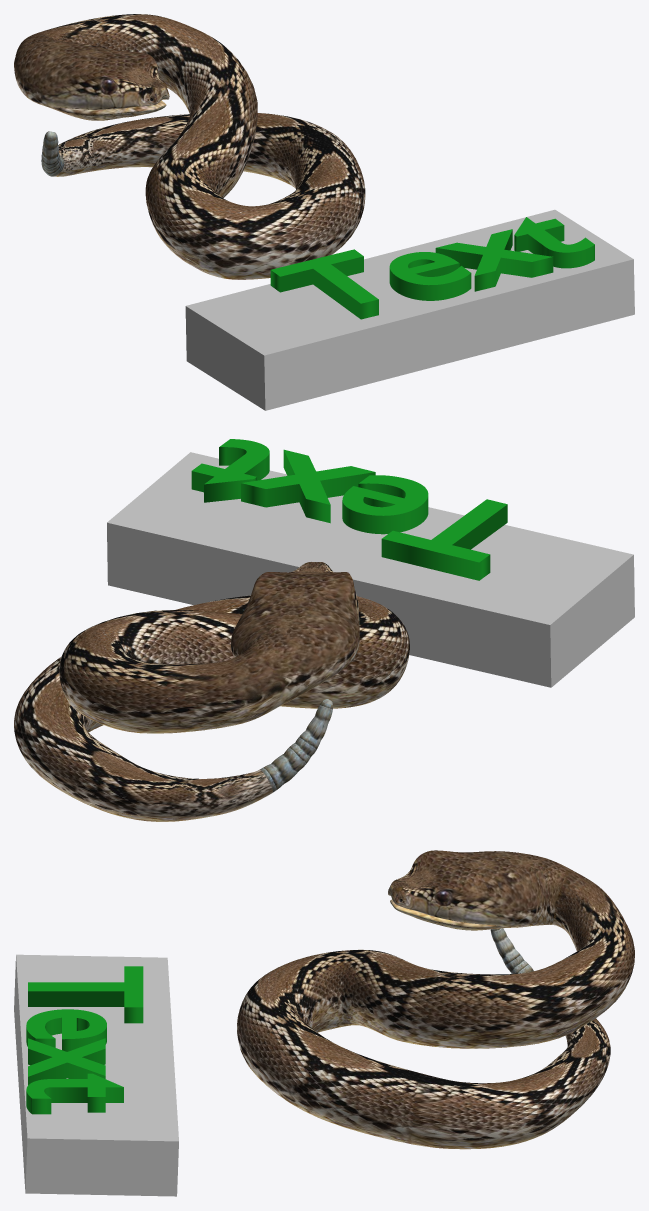
3 views of the same model, one above another, from view 1: azimuth 30°, elevation 25°; view 2: azimuth 150°, elevation 25°; view 3: azimuth 270°, elevation 25° (orthographic). The views are drawn at different scales.
Parts seen in each view (by area): view 1: 10050_RattleSnake_v04, Cube_Cube.001, Text; view 2: 10050_RattleSnake_v04, Cube_Cube.001, Text; view 3: 10050_RattleSnake_v04, Cube_Cube.001, Text.
Part boxes in pixels (x1=…): 10050_RattleSnake_v04: x1=14, y1=14, x2=365, y2=279; Cube_Cube.001: x1=185, y1=209, x2=634, y2=410; Text: x1=270, y1=217, x2=594, y2=319; 10050_RattleSnake_v04: x1=14, y1=562, x2=409, y2=821; Cube_Cube.001: x1=107, y1=452, x2=634, y2=687; Text: x1=191, y1=439, x2=507, y2=580; 10050_RattleSnake_v04: x1=237, y1=850, x2=634, y2=1149; Cube_Cube.001: x1=14, y1=954, x2=178, y2=1196; Text: x1=26, y1=966, x2=143, y2=1114.
Bounding box in the file's own units: 2.02 × 0.9295 × 2.85.
